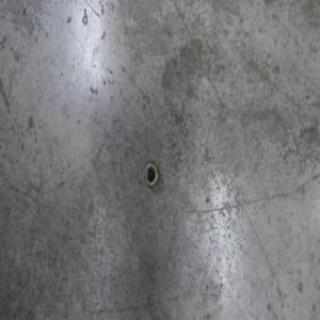Nuttrack_idkeyframe: (143, 161, 158, 190)
